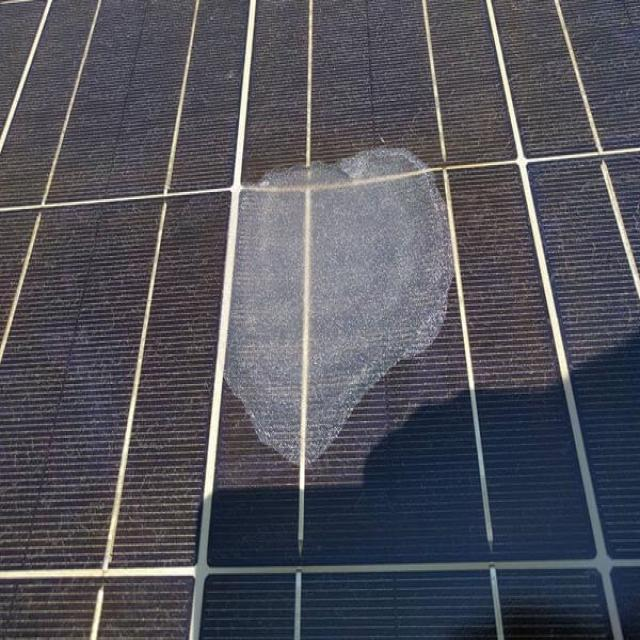Electrical-damage: (207, 127, 477, 489)
